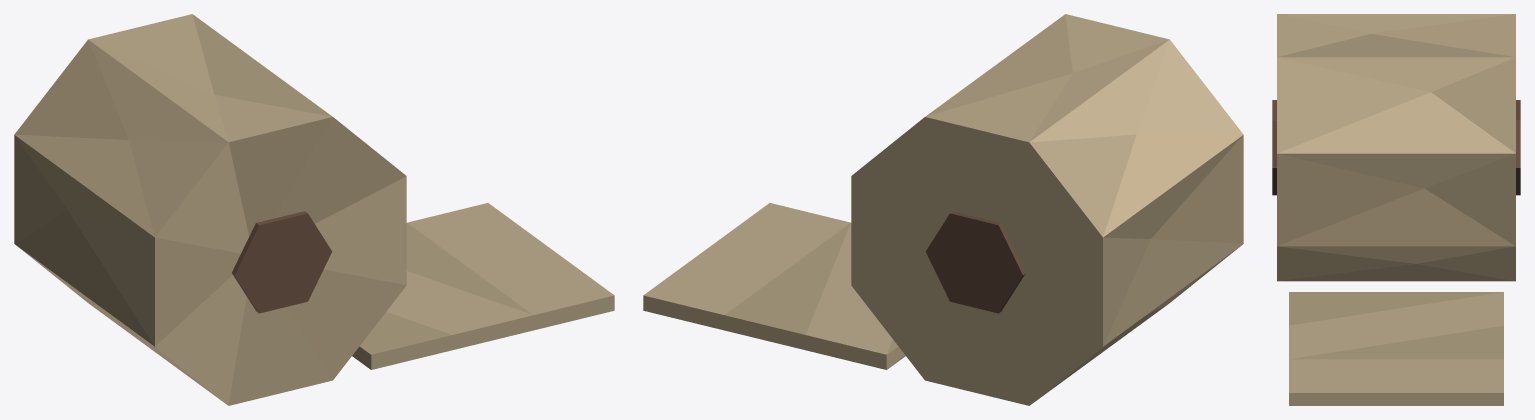
The model's file is bandage_samodelnyy_iz_tkani_idle.glb.
3 renders of one model, left to right at view 1: azimuth 30°, elevation 25°; view 2: azimuth 150°, elevation 25°; view 3: azimuth 270°, elevation 25°, orthographic. The views are drawn at different scales.
Parts seen in each view (by area): view 1: bandage_samodelnyy_iz_tkani_idle; view 2: bandage_samodelnyy_iz_tkani_idle; view 3: bandage_samodelnyy_iz_tkani_idle.
Part boxes in pixels (box(x1,y1,x2,y2)): bandage_samodelnyy_iz_tkani_idle: box(14, 14, 614, 405); bandage_samodelnyy_iz_tkani_idle: box(643, 14, 1243, 405); bandage_samodelnyy_iz_tkani_idle: box(1272, 14, 1520, 405).
Bounding box in the file's own units: 0.0959 × 0.0529 × 0.052.
1 material, 1 textured.
